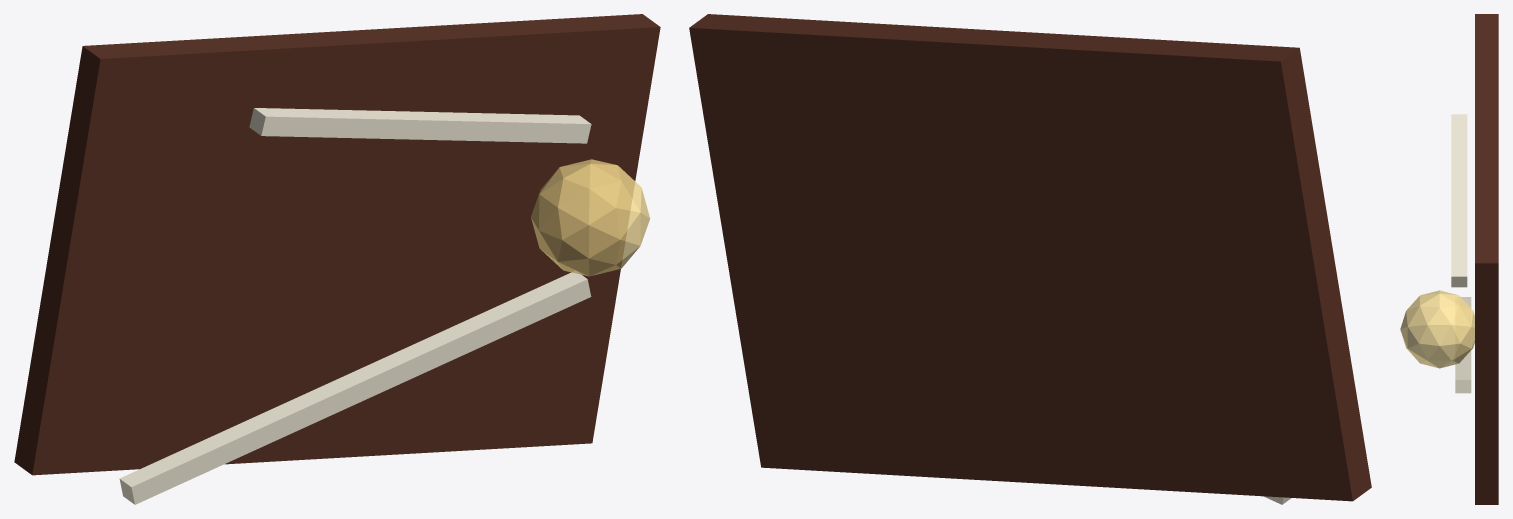
The model's file is 02_world_prop_polish.glb.
The picture shows the model from 3 angles, left to right: view 1: azimuth 30°, elevation 25°; view 2: azimuth 150°, elevation 25°; view 3: azimuth 270°, elevation 25°; orthographic projection. The views are drawn at different scales.
Visible parts, largest first — view 1: object_overlay_plate, edge_wear_a, glow_socket, edge_wear_b; view 2: object_overlay_plate; view 3: object_overlay_plate, glow_socket, edge_wear_b, edge_wear_a.
Part boxes in pixels (x1,y1,x2,y2): object_overlay_plate: (14, 14, 660, 475); edge_wear_a: (119, 271, 591, 504); glow_socket: (531, 159, 650, 276); edge_wear_b: (249, 108, 591, 143); object_overlay_plate: (689, 14, 1371, 501); object_overlay_plate: (1475, 14, 1498, 504); glow_socket: (1400, 290, 1474, 368); edge_wear_b: (1451, 114, 1467, 287); edge_wear_a: (1455, 297, 1471, 393).
Bounding box in the file's own units: 1.21 × 0.9318 × 0.25.
